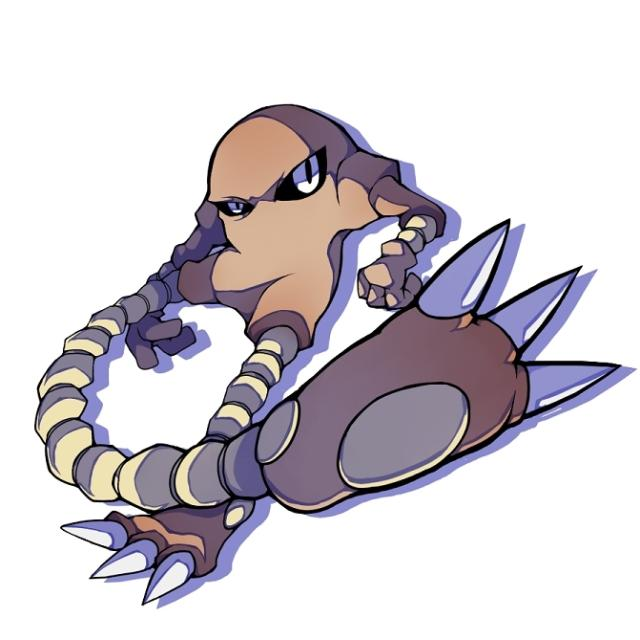Hitmonlee: (111, 108, 462, 550)
